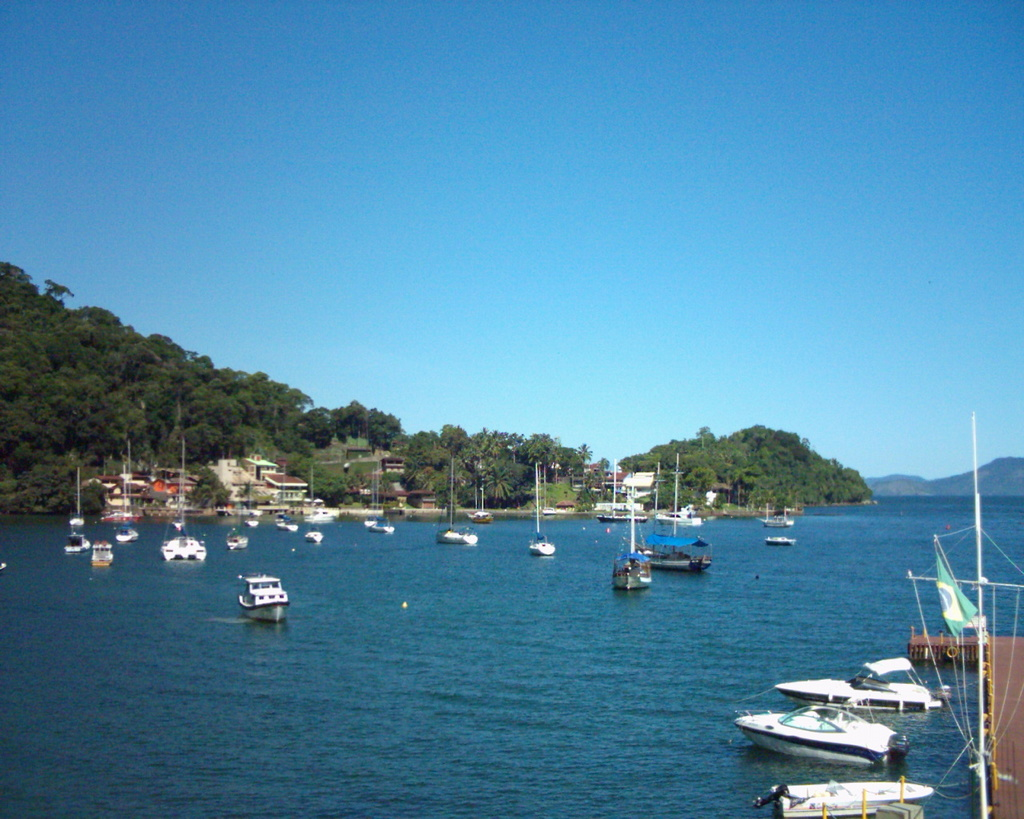boat: (713, 691, 922, 771), (763, 645, 948, 718), (636, 444, 728, 576), (742, 764, 945, 819), (156, 430, 218, 571), (611, 473, 657, 609), (432, 448, 491, 554), (220, 565, 307, 635), (521, 454, 566, 570), (111, 436, 146, 550), (356, 453, 396, 543), (752, 510, 802, 533), (766, 531, 805, 554)
